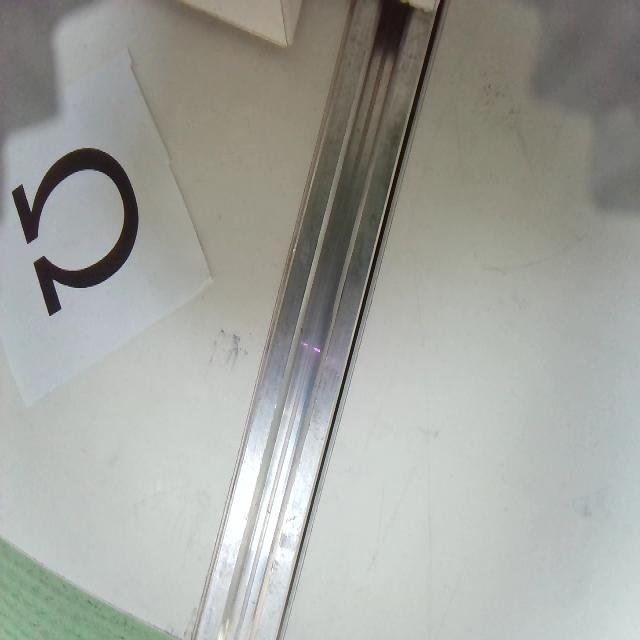OM: (10, 146, 140, 316)
